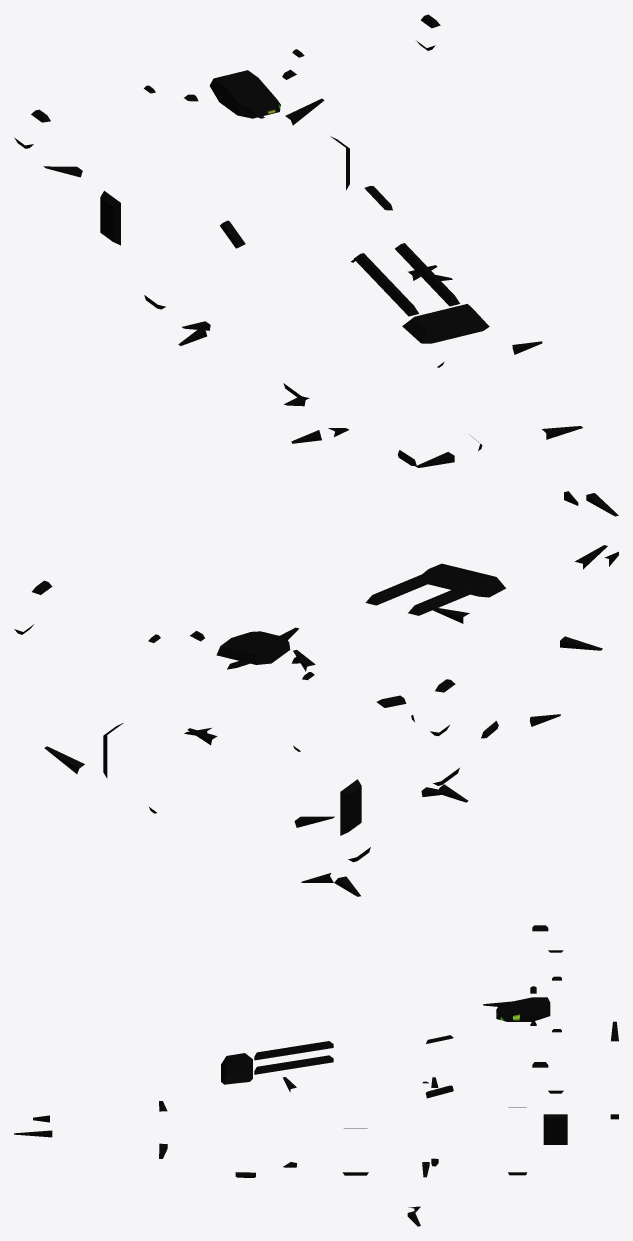
Rendered from tan_cf_assa_01_t2.glb.
3 renders of one model, top to bottom at view 1: azimuth 30°, elevation 25°; view 2: azimuth 150°, elevation 25°; view 3: azimuth 270°, elevation 25°, orthographic. The views are drawn at different scales.
Visible parts, largest first — view 1: tan_assault_fregate_LOD0; view 2: tan_assault_fregate_LOD0; view 3: tan_assault_fregate_LOD0.
Part boxes in pixels (box(x1,y1,x2,y2)): tan_assault_fregate_LOD0: box(14, 14, 618, 516); tan_assault_fregate_LOD0: box(14, 545, 618, 896); tan_assault_fregate_LOD0: box(14, 925, 618, 1226).
Size of what is drawn, in the model's own units: 1.72 by 1.24 by 3.05.
Materials: 1 (1 with a texture image).
